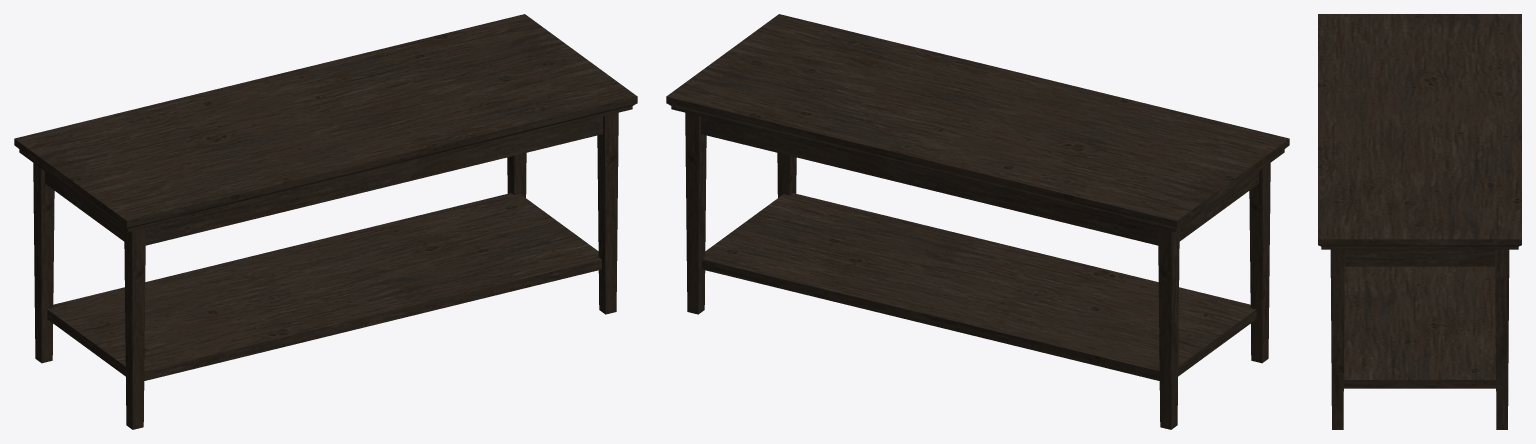
The model's file is coffee_table_1_2.obj.
3 views of the same model, side by side, from view 1: azimuth 30°, elevation 25°; view 2: azimuth 150°, elevation 25°; view 3: azimuth 270°, elevation 25° (orthographic). The views are drawn at different scales.
Visible parts, largest first — view 1: coffee_table_1_2; view 2: coffee_table_1_2; view 3: coffee_table_1_2.
Boxes of the visible parts, left/top/right/bottom form: coffee_table_1_2: left=14, top=14, right=637, bottom=429; coffee_table_1_2: left=666, top=14, right=1289, bottom=429; coffee_table_1_2: left=1318, top=14, right=1521, bottom=429.
Size of the model in its own units: 1.62 by 0.66 by 0.62.
